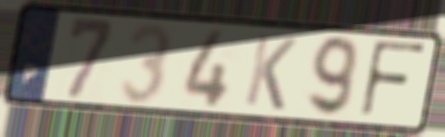3: (118, 18, 178, 109)
4: (181, 27, 231, 109)
7: (66, 14, 116, 102)
9: (304, 34, 362, 120)
F: (357, 37, 430, 122)
K: (241, 31, 300, 113)
